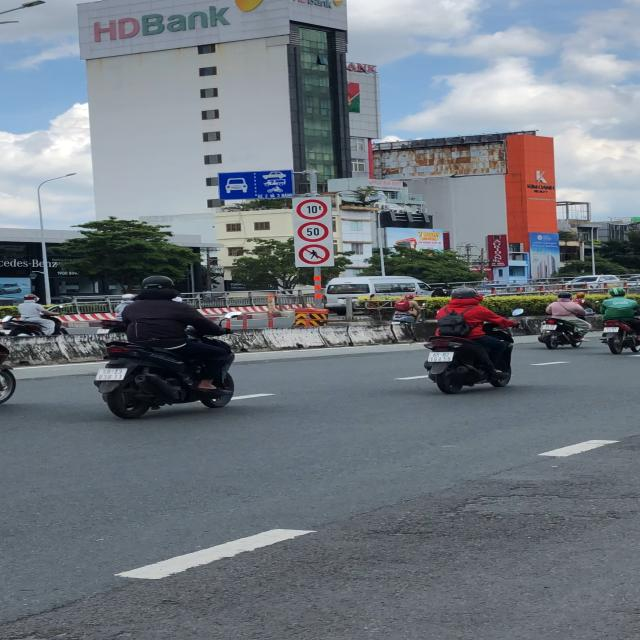Bien bao toc do toi da cho phep: (297, 220, 332, 244)
